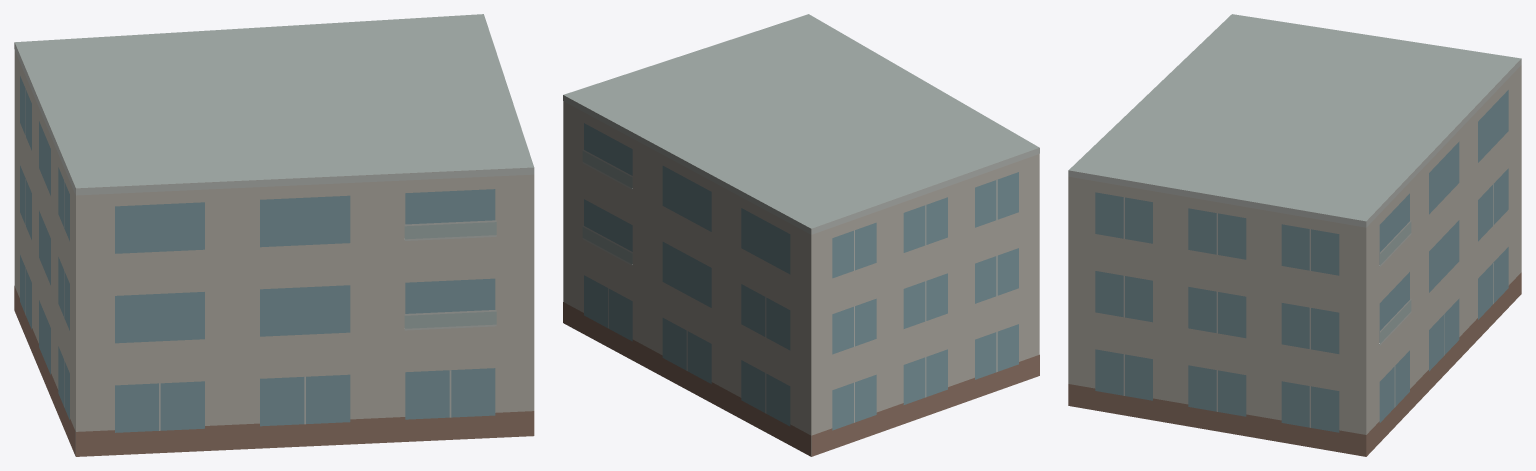
File: survey-upis-32489774.glb
3 renders of one model, left to right at view 1: azimuth 30°, elevation 25°; view 2: azimuth 150°, elevation 25°; view 3: azimuth 270°, elevation 25°, orthographic. The views are drawn at different scales.
Parts seen in each view (by area): view 1: survey-upis-32489774.tmp; view 2: survey-upis-32489774.tmp; view 3: survey-upis-32489774.tmp.
Part boxes in pixels (x1,y1,x2,y2): survey-upis-32489774.tmp: (14, 14, 534, 456); survey-upis-32489774.tmp: (563, 14, 1039, 456); survey-upis-32489774.tmp: (1068, 14, 1521, 456).
Bounding box in the file's own units: 17.19 × 9.1 × 15.88.
